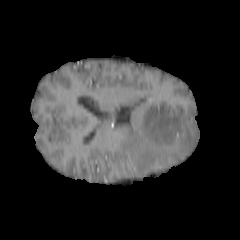glioma: (118, 102, 198, 174)
